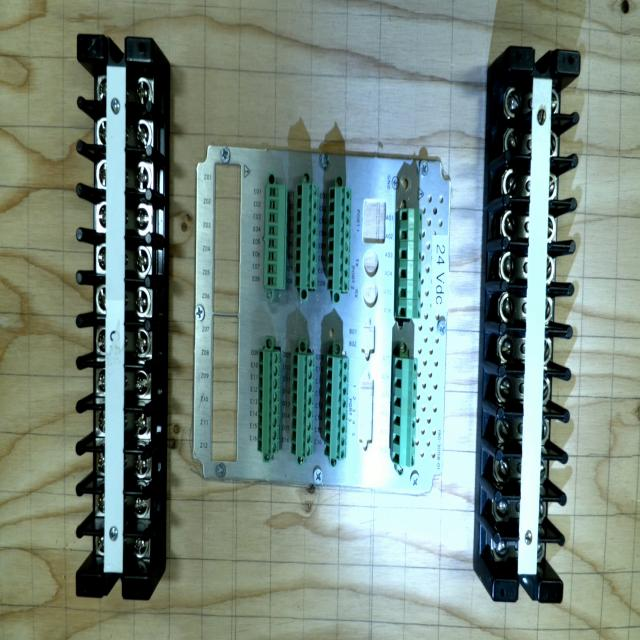Flathead_Block: (493, 47, 580, 602)
Phillips_Block: (77, 35, 151, 600)
Terminal_1: (391, 356, 418, 467), (397, 208, 422, 318)
Terminal_2: (294, 183, 319, 289), (324, 356, 349, 461), (327, 187, 352, 292), (291, 354, 315, 459), (257, 350, 280, 455)
